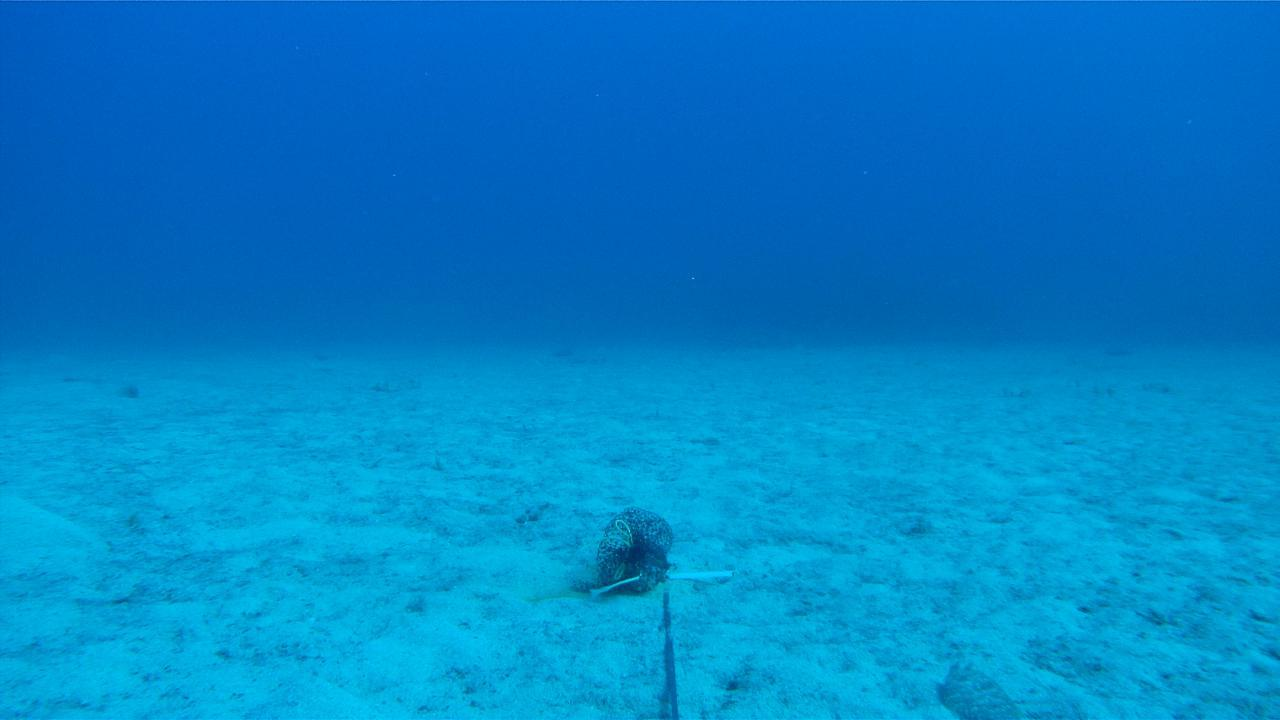bothus: (934, 652, 1020, 719)
